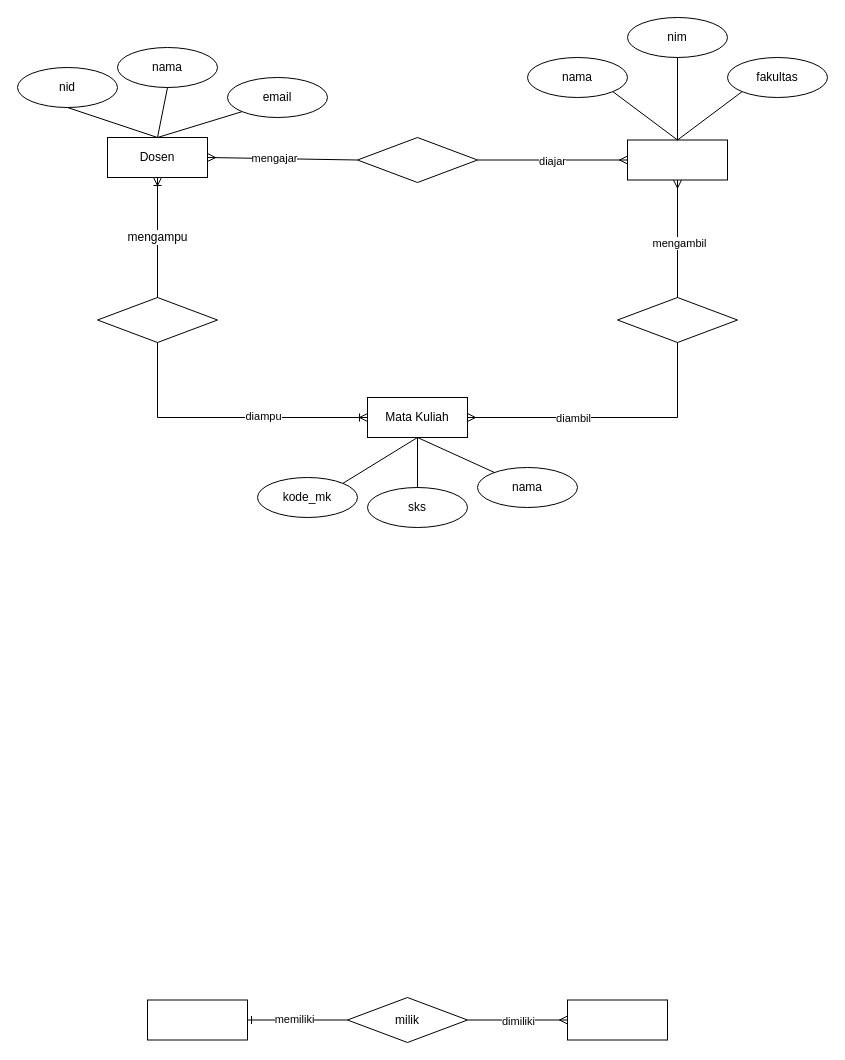
Image size: 845x1060. Some labels were removed from this diagram. Here are the shapes that lost their labels. From the top down, the centre of each, then its label:
At (x=417, y=159): "ajar".
At (x=677, y=159): "Mahasiswa".
At (x=157, y=319): "ampu".
At (x=677, y=319): "ambil".
At (x=197, y=1019): "Person".
At (x=617, y=1019): "Baju".
